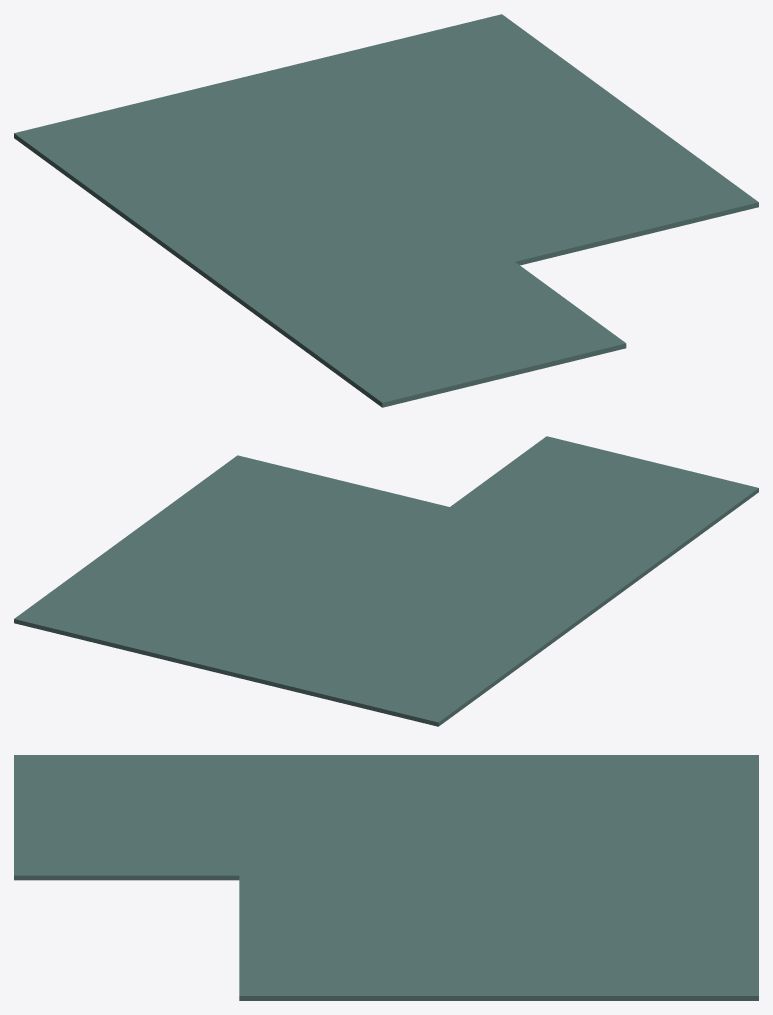
File: comms_floor.fbx
3 views of the same model, one above another, from view 1: azimuth 30°, elevation 25°; view 2: azimuth 150°, elevation 25°; view 3: azimuth 270°, elevation 25° (orthographic). The views are drawn at different scales.
Parts seen in each view (by area): view 1: Plane.008; view 2: Plane.008; view 3: Plane.008.
Part boxes in pixels (x1,y1,x2,y2): Plane.008: (14, 14, 758, 407); Plane.008: (14, 436, 758, 726); Plane.008: (14, 755, 758, 1000).
Bounding box in the file's own units: 1038 × 10 × 1357.
